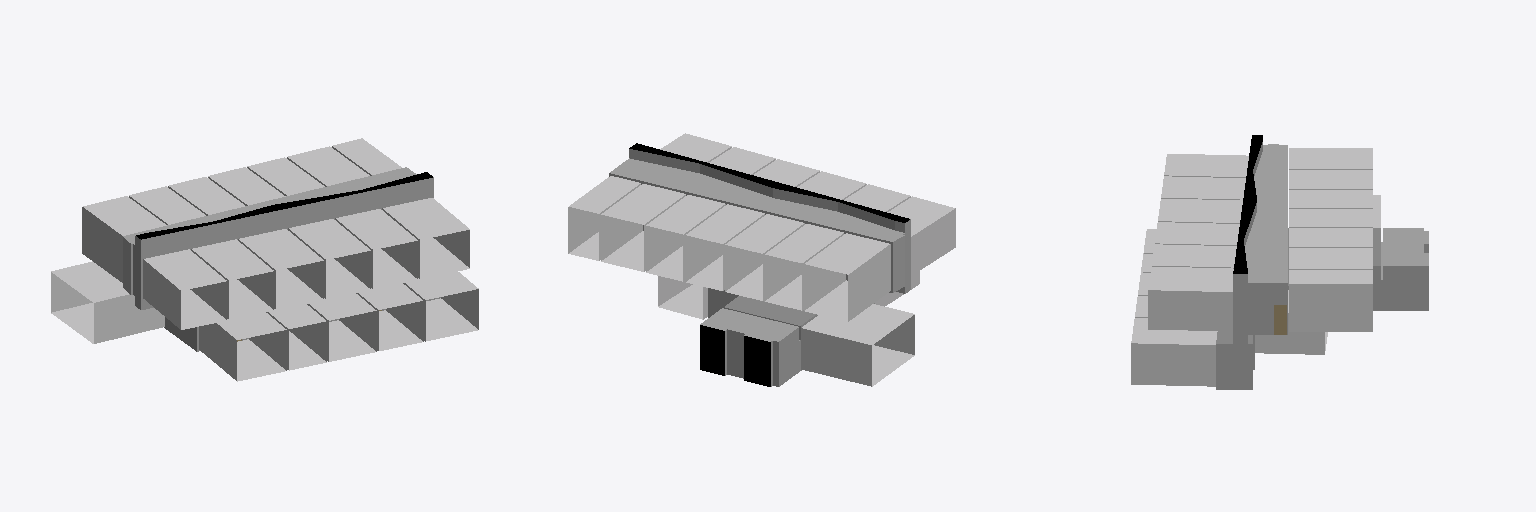
File: skylight_lightwell_v2_LS_sak_1548.obj
3 renders of one model, left to right at view 1: azimuth 30°, elevation 25°; view 2: azimuth 150°, elevation 25°; view 3: azimuth 270°, elevation 25°, orthographic.
Bounding box in the file's own units: 988 × 354 × 823.